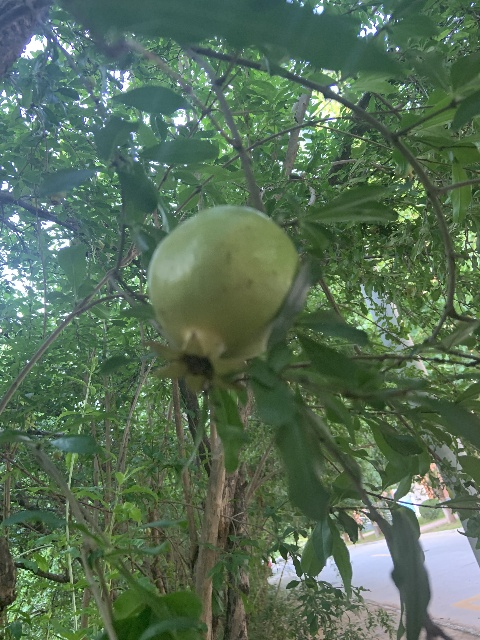mid-growth: (145, 206, 296, 391), (45, 190, 66, 205), (402, 284, 416, 297), (92, 239, 104, 252)
